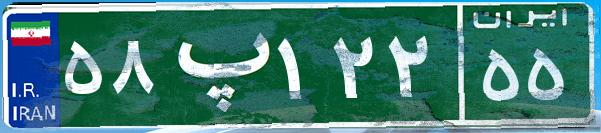1: (273, 28, 330, 110)
2: (385, 28, 445, 110), (330, 28, 385, 110)
5: (57, 26, 110, 107), (475, 38, 525, 113), (525, 38, 570, 115)
8: (110, 28, 158, 105)
پ: (158, 15, 273, 115)
